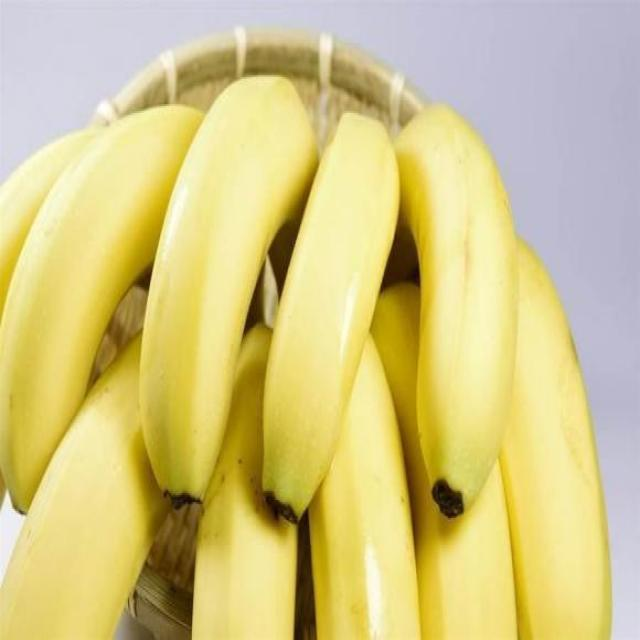banana: (399, 32, 532, 518), (143, 64, 284, 498), (281, 93, 398, 564)
